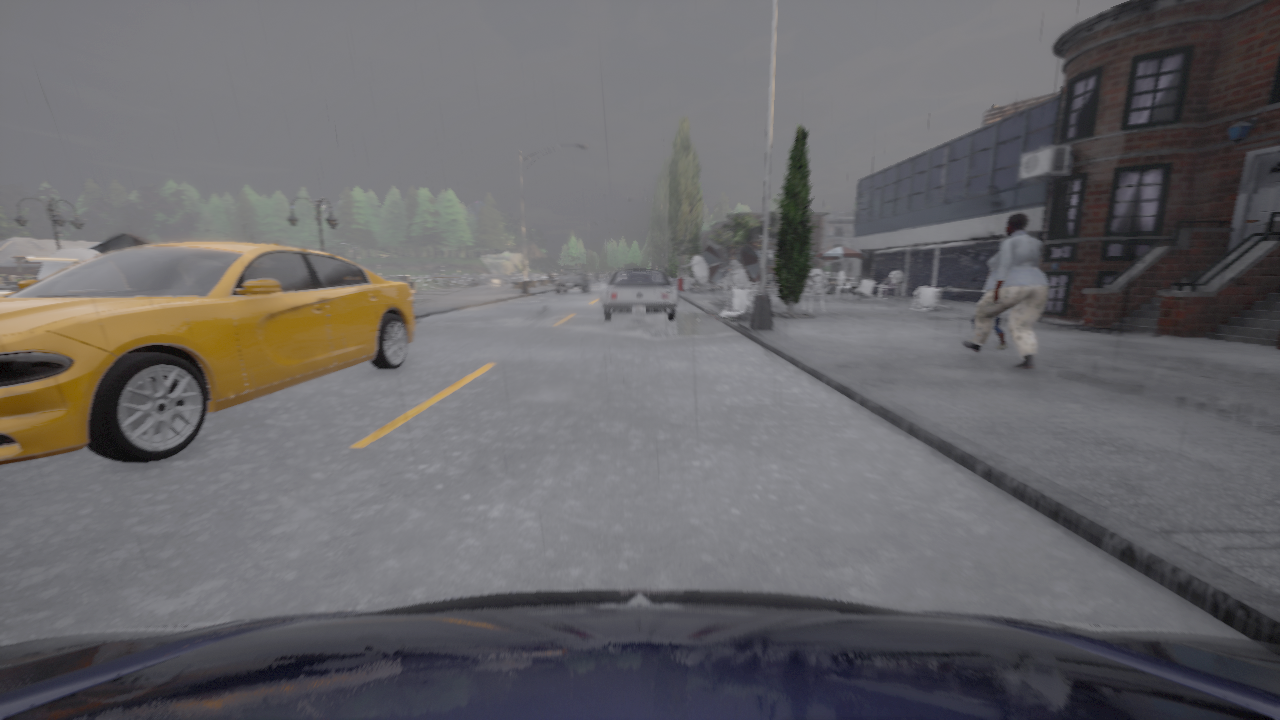cyclist: (0, 588, 1279, 719), (0, 241, 416, 465), (601, 270, 678, 321), (557, 268, 589, 293), (633, 268, 646, 269)
pedestrian: (962, 213, 1049, 369), (967, 271, 1006, 348)
